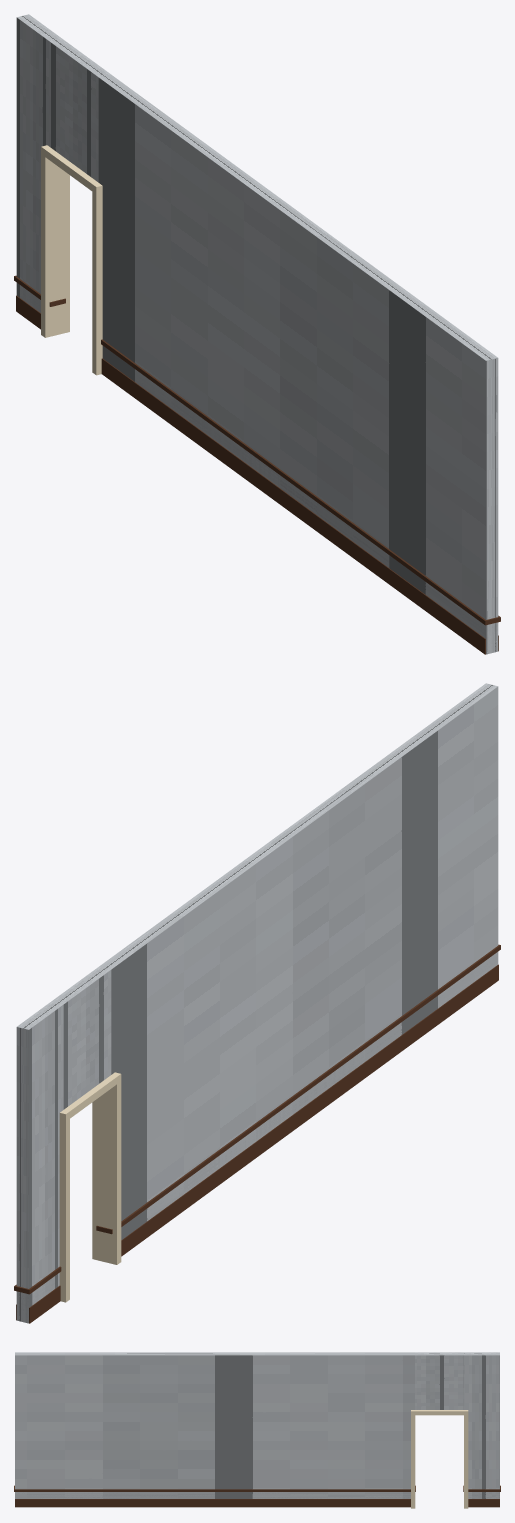
Rendered from mid.glb.
3 renders of one model, top to bottom at view 1: azimuth 30°, elevation 25°; view 2: azimuth 150°, elevation 25°; view 3: azimuth 270°, elevation 25°, orthographic. The views are drawn at different scales.
Visible parts, largest first — view 1: Box3, Box1, Box4, Box5, Box11, Box6, Box12, Box7; view 2: Box3, Box1, Box4, Box5, Box7, Box11, Box12, Box6; view 3: Box3, Box1, Box4, Box5, Box11, Box12, Box6, Box7, Box8, Box2, Box9.
Boxes of the visible parts, x1,y1,x2,y2 form: Box3: (98,74,498,654); Box1: (16,14,62,312); Box4: (101,358,498,654); Box5: (51,39,110,182); Box11: (103,347,498,653); Box6: (41,145,69,337); Box12: (101,339,500,625); Box7: (92,182,102,375); Box3: (99,683,498,1239); Box1: (16,1001,63,1323); Box4: (121,964,498,1256); Box5: (51,967,111,1109); Box7: (92,1072,121,1264); Box11: (121,952,498,1238); Box12: (96,944,500,1234); Box6: (59,1110,69,1302); Box3: (15,1352,414,1498); Box1: (464,1352,499,1498); Box4: (15,1499,410,1507); Box5: (415,1352,464,1409); Box11: (15,1492,410,1498); Box12: (14,1485,415,1491); Box6: (464,1410,468,1508); Box7: (411,1410,415,1508); Box8: (415,1410,463,1415); Box2: (468,1499,499,1507); Box9: (468,1492,499,1498).
Size of the model in its own units: 0.3 by 3.4 by 9.89.
3 materials, 1 textured.
